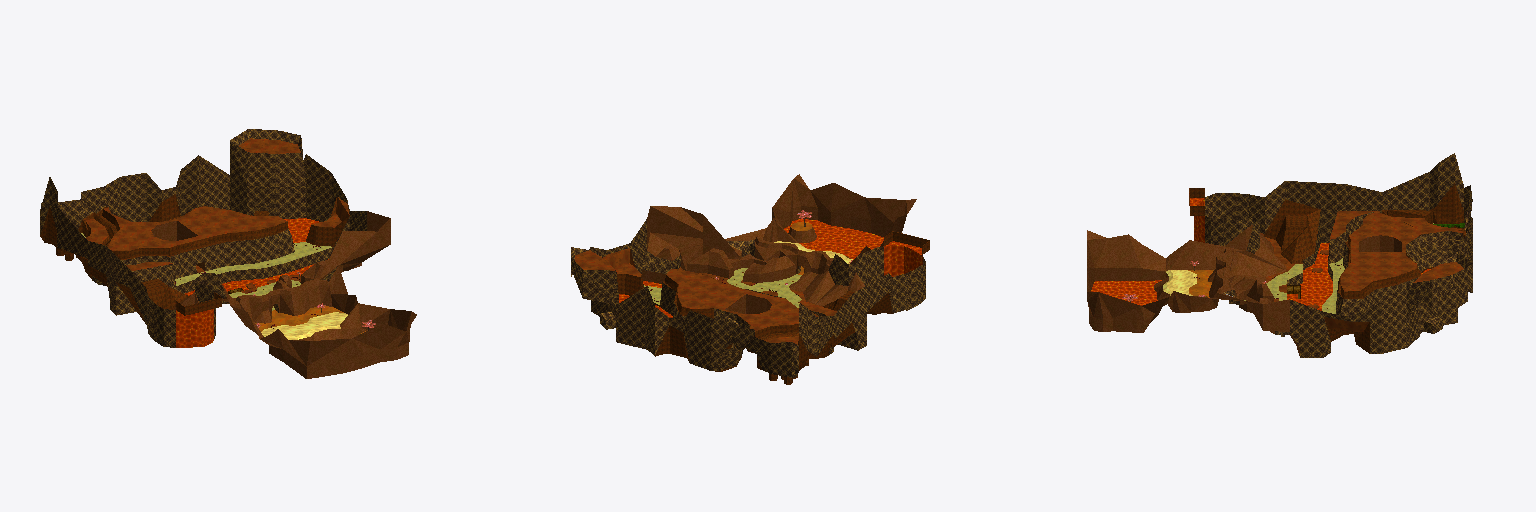
3 views of the same model, side by side, from view 1: azimuth 30°, elevation 25°; view 2: azimuth 150°, elevation 25°; view 3: azimuth 270°, elevation 25° (orthographic).
Size of the model in its own units: 8.49 by 2.92 by 11.23.
19 materials, 18 textured.